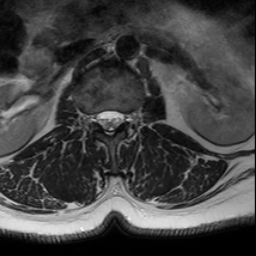CCS_normal: (105, 103, 115, 143)
LFS_stenosis: (124, 106, 131, 129)
LLS_normal: (115, 104, 123, 131)
RFS_stenosis: (88, 107, 97, 131)
RLS_normal: (95, 104, 105, 135)
